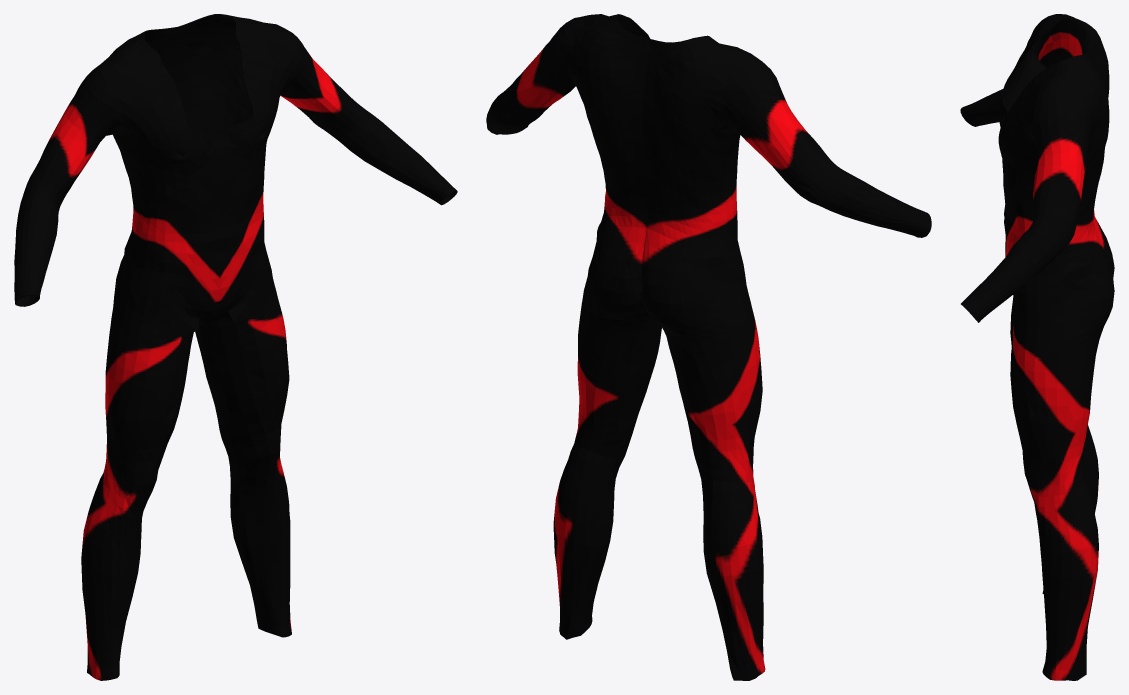
The model's file is mhw_culturalibre_heroine_suit_2.glb.
3 renders of one model, left to right at view 1: azimuth 30°, elevation 25°; view 2: azimuth 150°, elevation 25°; view 3: azimuth 270°, elevation 25°, orthographic. The views are drawn at different scales.
Visible parts, largest first — view 1: mhw_culturalibre_heroine_suit_2; view 2: mhw_culturalibre_heroine_suit_2; view 3: mhw_culturalibre_heroine_suit_2.
Boxes of the visible parts, x1,y1,x2,y2 form: mhw_culturalibre_heroine_suit_2: (14,14,457,680); mhw_culturalibre_heroine_suit_2: (486,14,931,680); mhw_culturalibre_heroine_suit_2: (960,14,1114,680).
Size of the model in its own units: 1.09 by 1.48 by 0.3449.
1 material, 1 textured.
